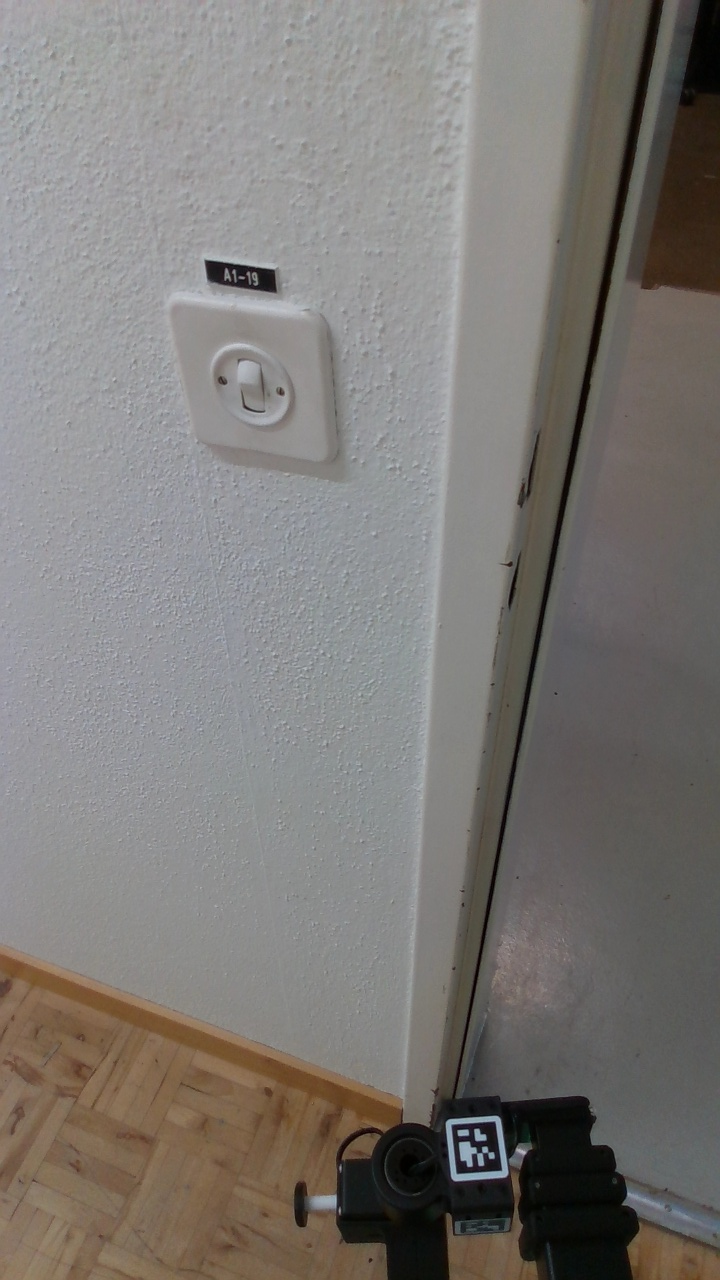Radiator: (167, 294, 332, 461)
